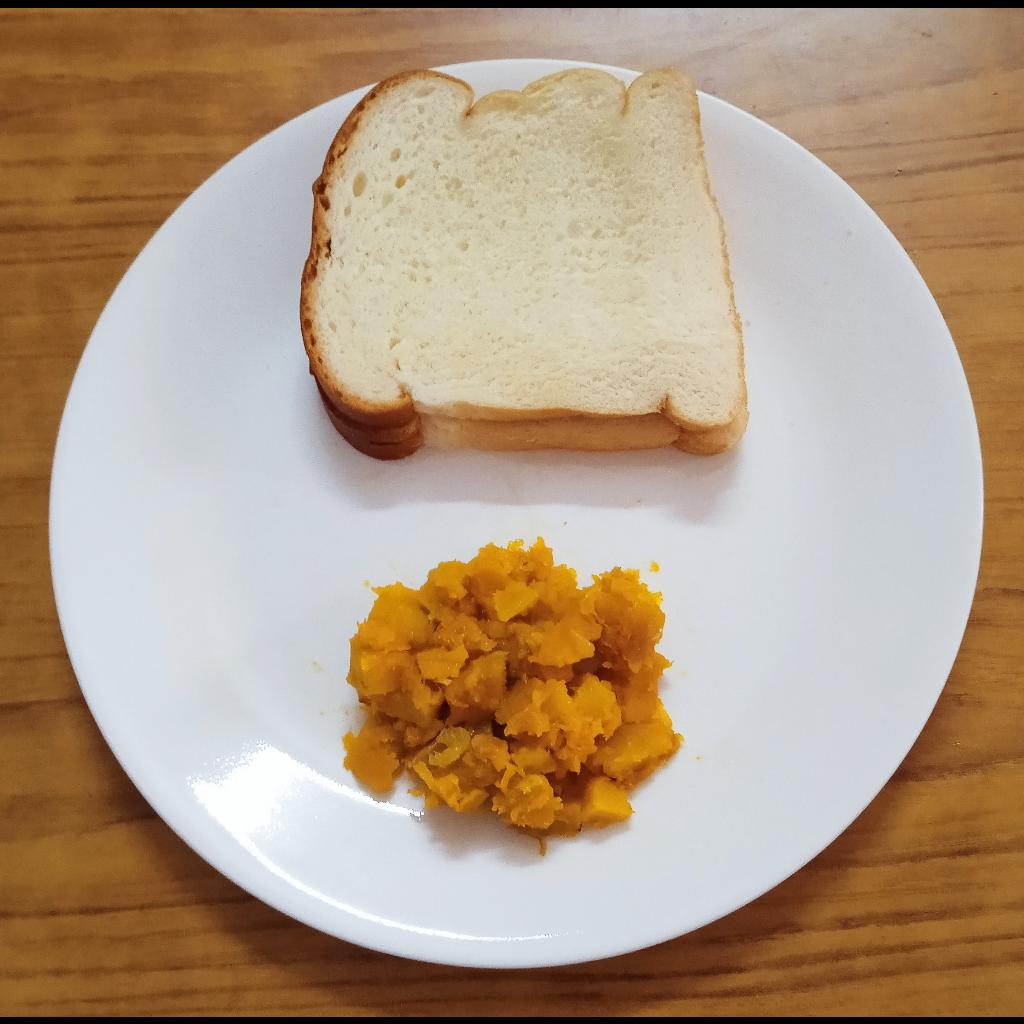bread: (301, 66, 746, 460)
kumra-vaji: (343, 534, 686, 843)
